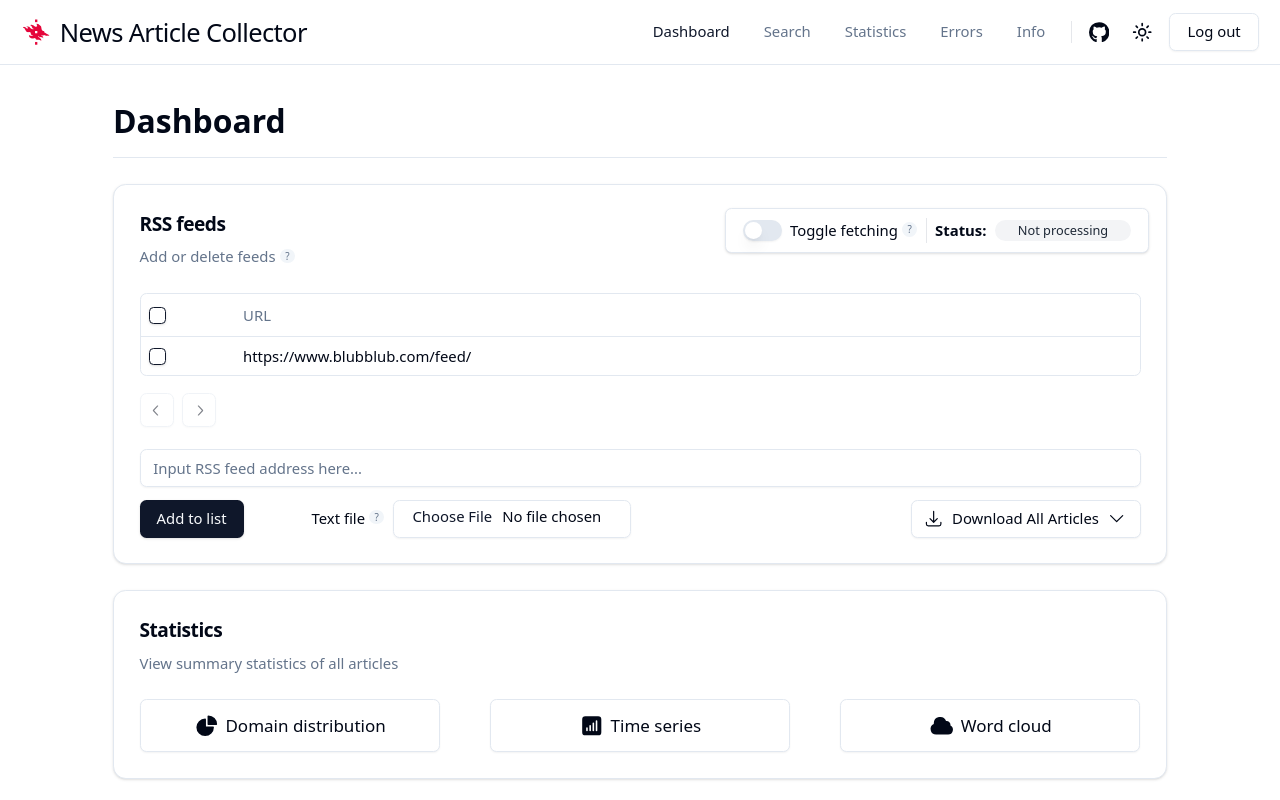
Scenario: App component › searches articles based on query
Expected: the heading "RSS feeds" is shown, [140,211,225,237]
Click the link "Search".
click(787, 31)  # box [764,21,811,41]
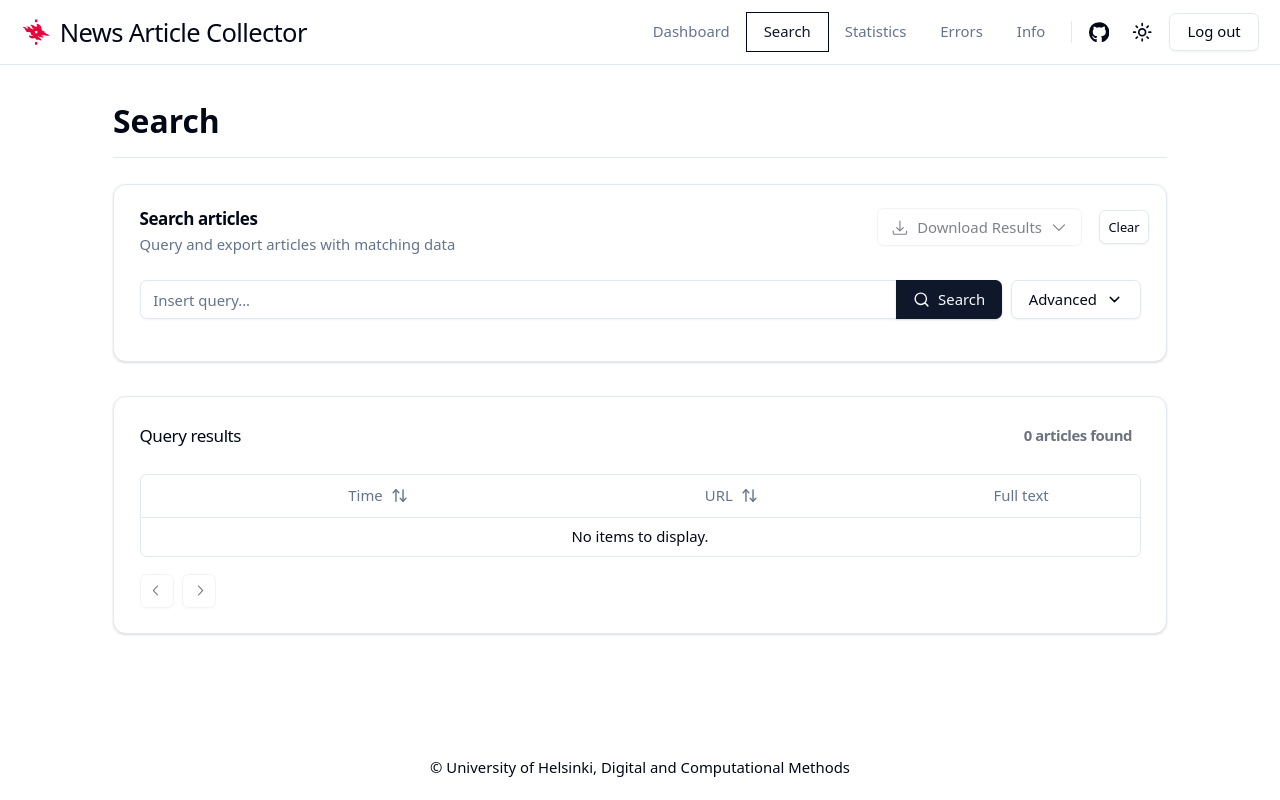
Expected: the heading "Search articles" is shown, [140,207,258,230]
Type "Full text 1" into the field with placeholder "Insert query...".
click(571, 300); type("Full text 1")  # box [140,280,1002,319]
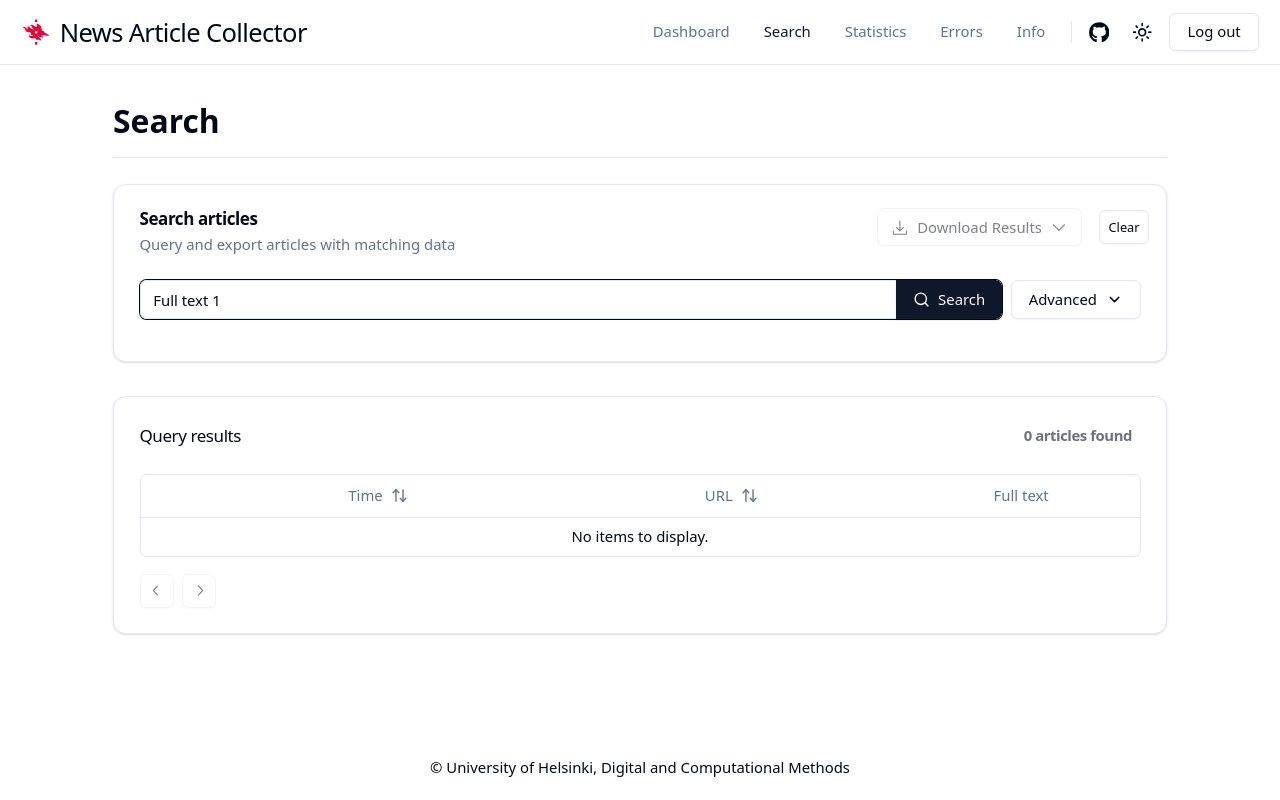
Click the button "Search".
click(949, 300)  # box [896,280,1002,319]
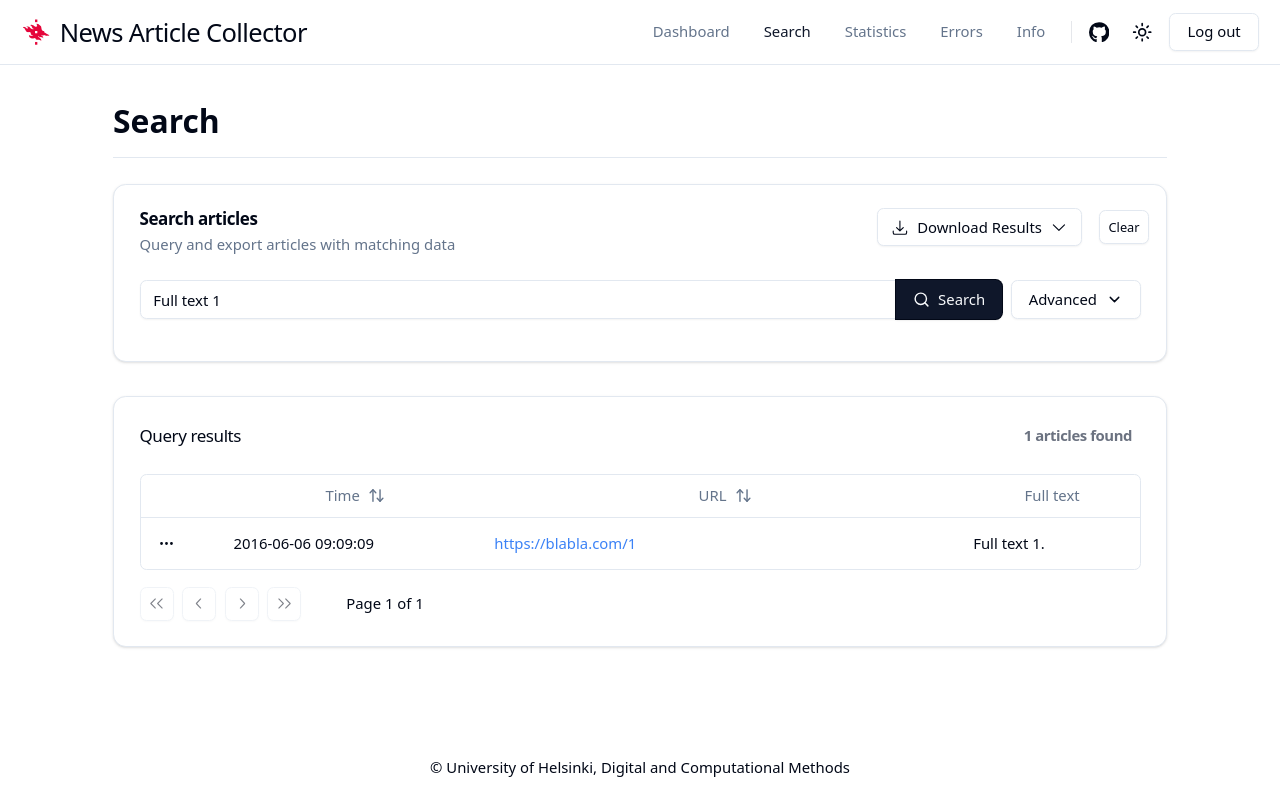
Expected: the table is shown, [140,475,1140,569]
Expected: the text "Full text 1." is shown, [973,532,1045,554]
